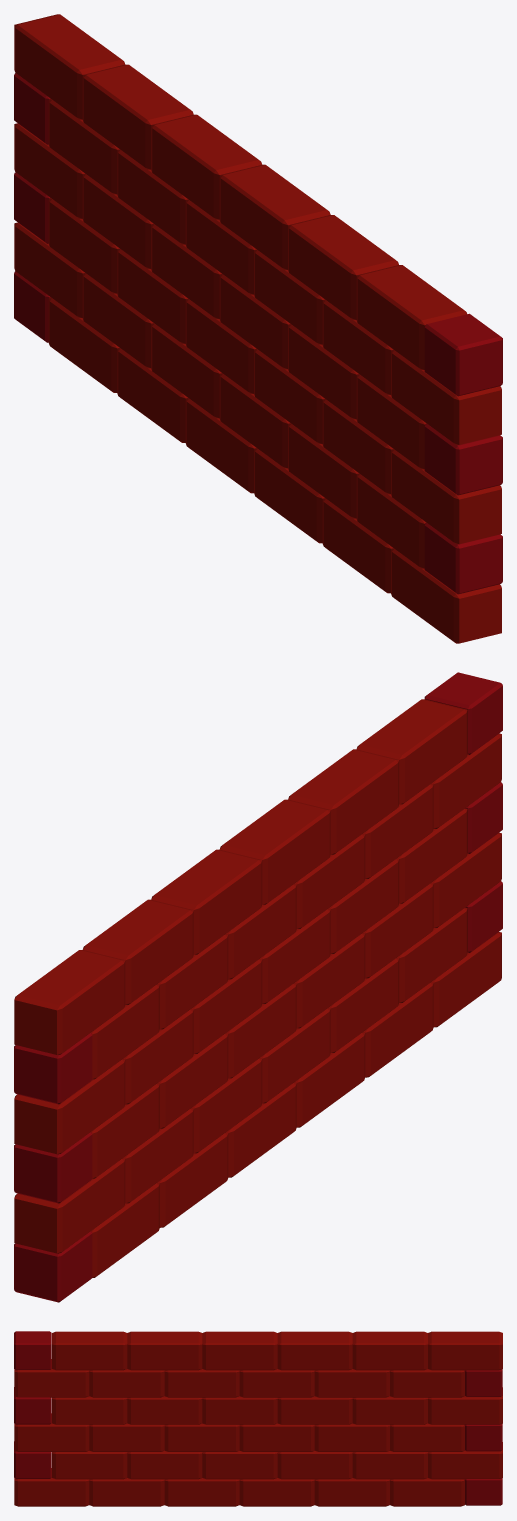
The model's file is Wall_01.fbx.
The picture shows the model from 3 angles, top to bottom: view 1: azimuth 30°, elevation 25°; view 2: azimuth 150°, elevation 25°; view 3: azimuth 270°, elevation 25°; orthographic projection. The views are drawn at different scales.
Parts seen in each view (by area): view 1: Cube, 立方体.001; view 2: Cube, 立方体.001; view 3: Cube, 立方体.001.
Boxes of the visible parts, box(x1,y1,x2,y2) form: Cube: box(14, 14, 501, 643); 立方体.001: box(14, 73, 502, 594); Cube: box(14, 699, 501, 1277); 立方体.001: box(14, 672, 502, 1302); Cube: box(14, 1331, 502, 1506); 立方体.001: box(14, 1331, 502, 1505).
Size of the model in its own units: 200 by 1201 by 3253.
